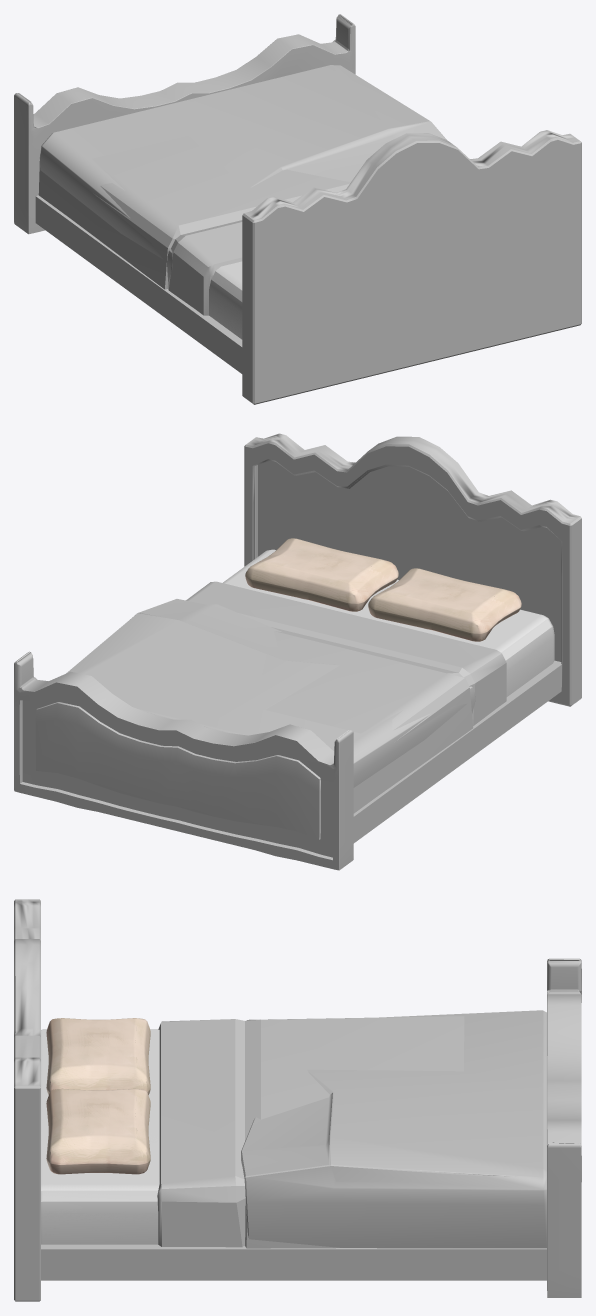
Rendered from bed_clean.fbx.
The picture shows the model from 3 angles, top to bottom: view 1: azimuth 30°, elevation 25°; view 2: azimuth 150°, elevation 25°; view 3: azimuth 270°, elevation 25°; orthographic projection. The views are drawn at different scales.
Parts seen in each view (by area): view 1: Bedframe, Messy_blanket, clean_blanker, mattress.001; view 2: Bedframe, clean_blanker, Messy_blanket, Pillows, Pillows.001, mattress.001; view 3: Messy_blanket, clean_blanker, Bedframe, Pillows, Pillows.001, mattress.001.
Part boxes in pixels (x1,y1,x2,y2): Bedframe: [14, 14, 581, 404]; Messy_blanket: [39, 65, 446, 284]; clean_blanker: [38, 135, 350, 339]; mattress.001: [209, 265, 242, 338]; Bedframe: [14, 433, 581, 870]; clean_blanker: [186, 549, 553, 813]; Messy_blanket: [66, 599, 475, 787]; Pillows: [245, 538, 398, 611]; Pillows.001: [368, 568, 521, 641]; mattress.001: [224, 549, 554, 696]; Messy_blanket: [241, 1010, 547, 1248]; clean_blanker: [41, 1016, 464, 1248]; Bedframe: [14, 899, 581, 1301]; Pillows: [46, 1088, 150, 1174]; Pillows.001: [46, 1018, 150, 1094]; mattress.001: [41, 1029, 159, 1244].
Bounding box in the file's own units: 427 × 277 × 543.
